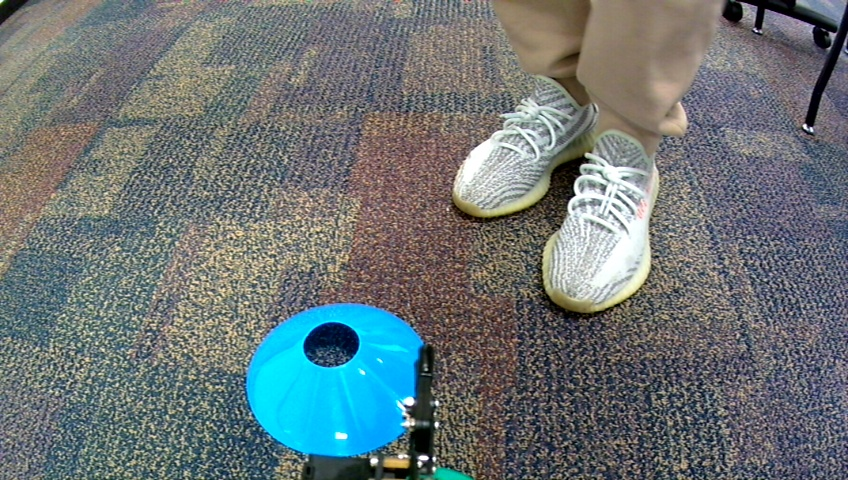cone: (248, 300, 427, 453)
